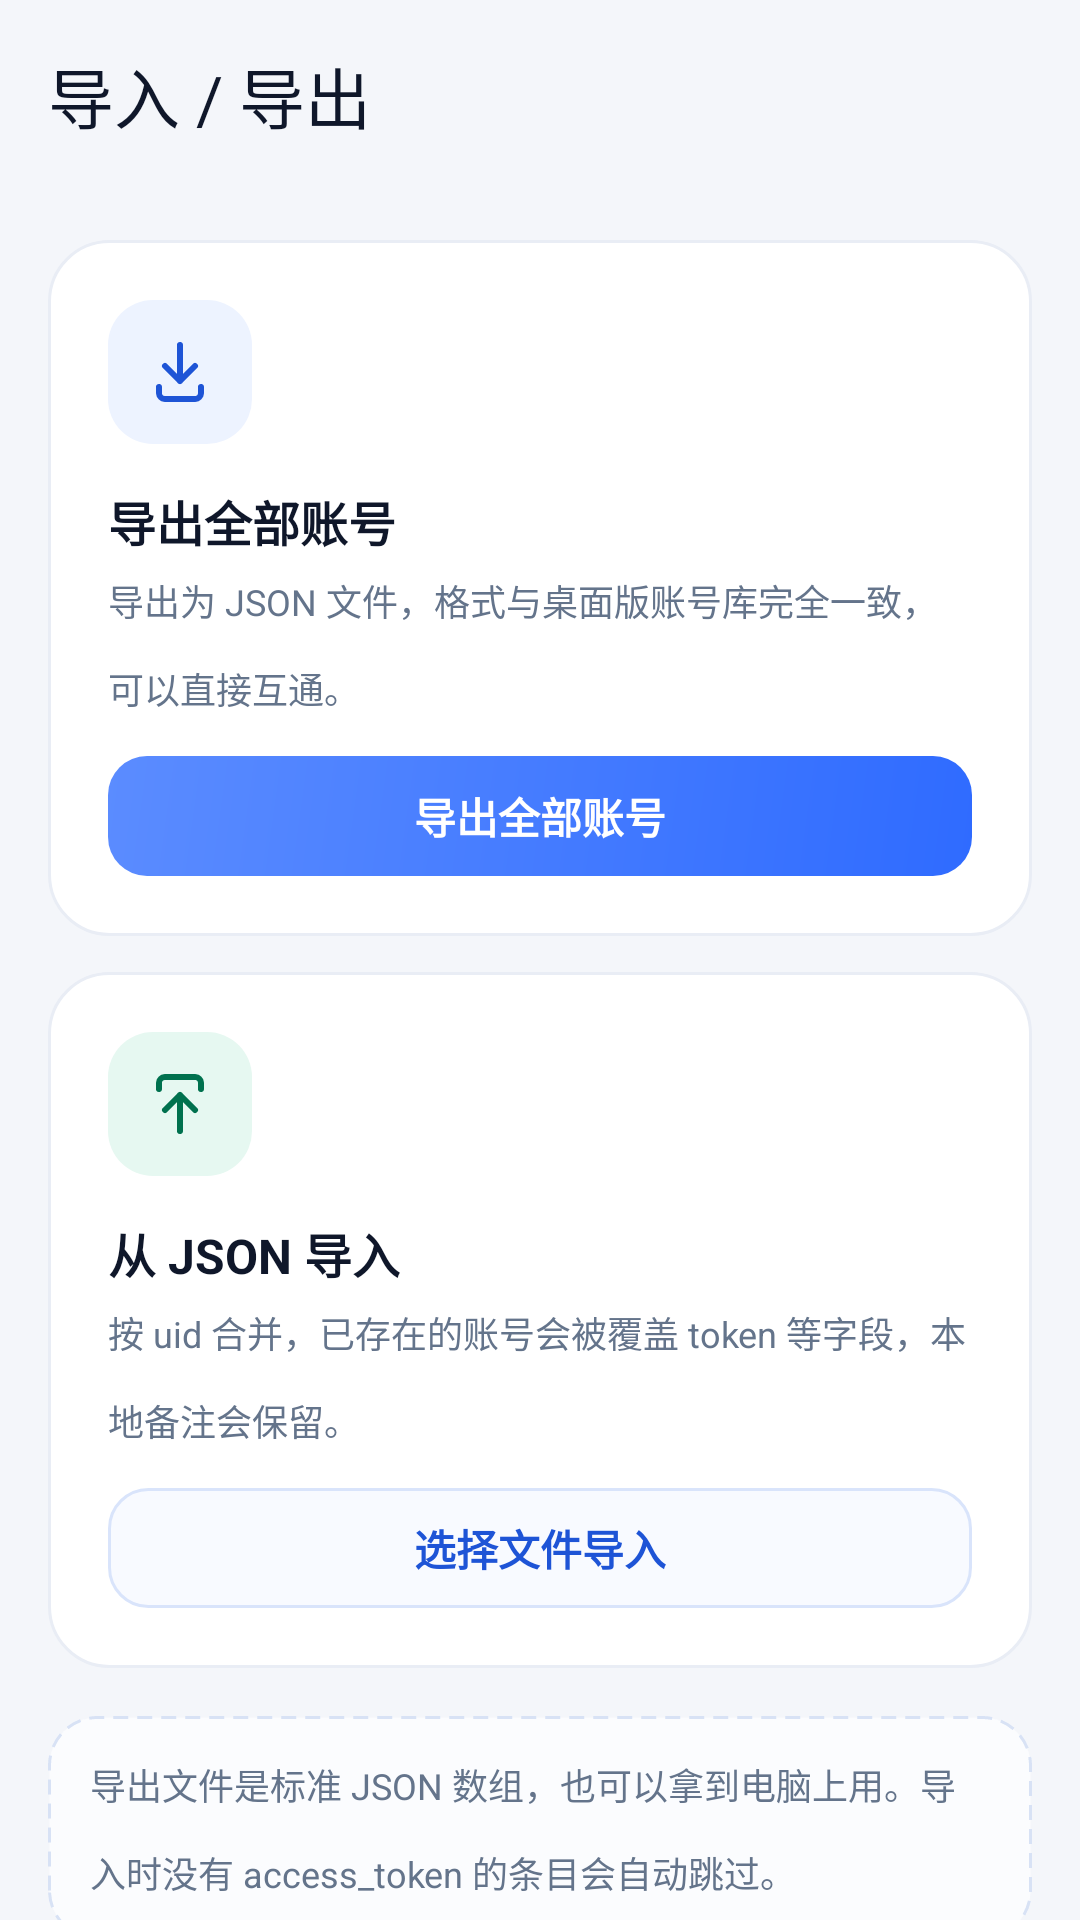

Icon bounding boxes for this 1080x1920 phone screenshot, format [x1,y1,x2,y2]:
export: [156,342,204,402]
import: [156,1074,204,1134]
